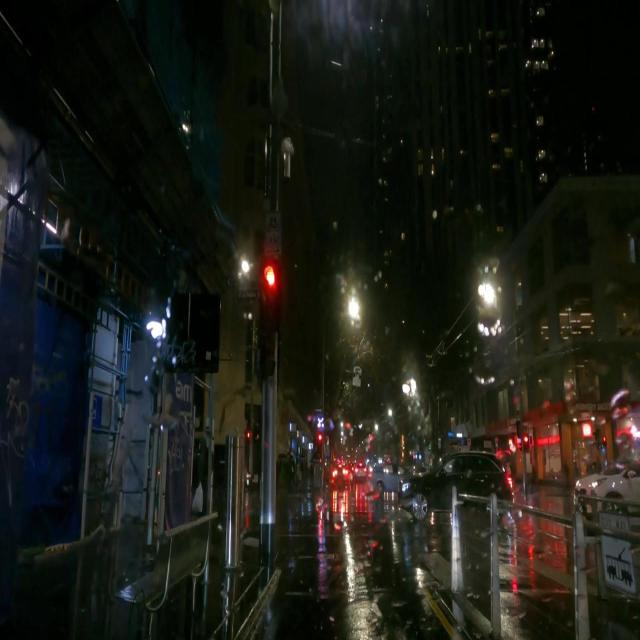Car: (398, 453, 512, 511)
